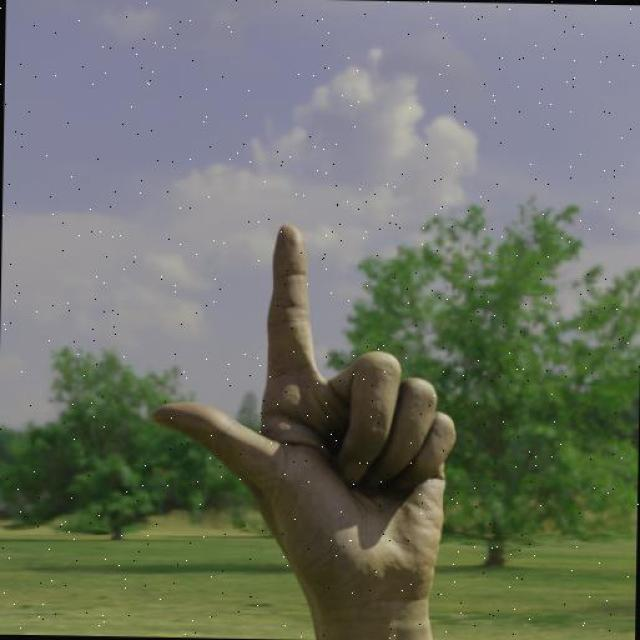L: (146, 222, 460, 580)
